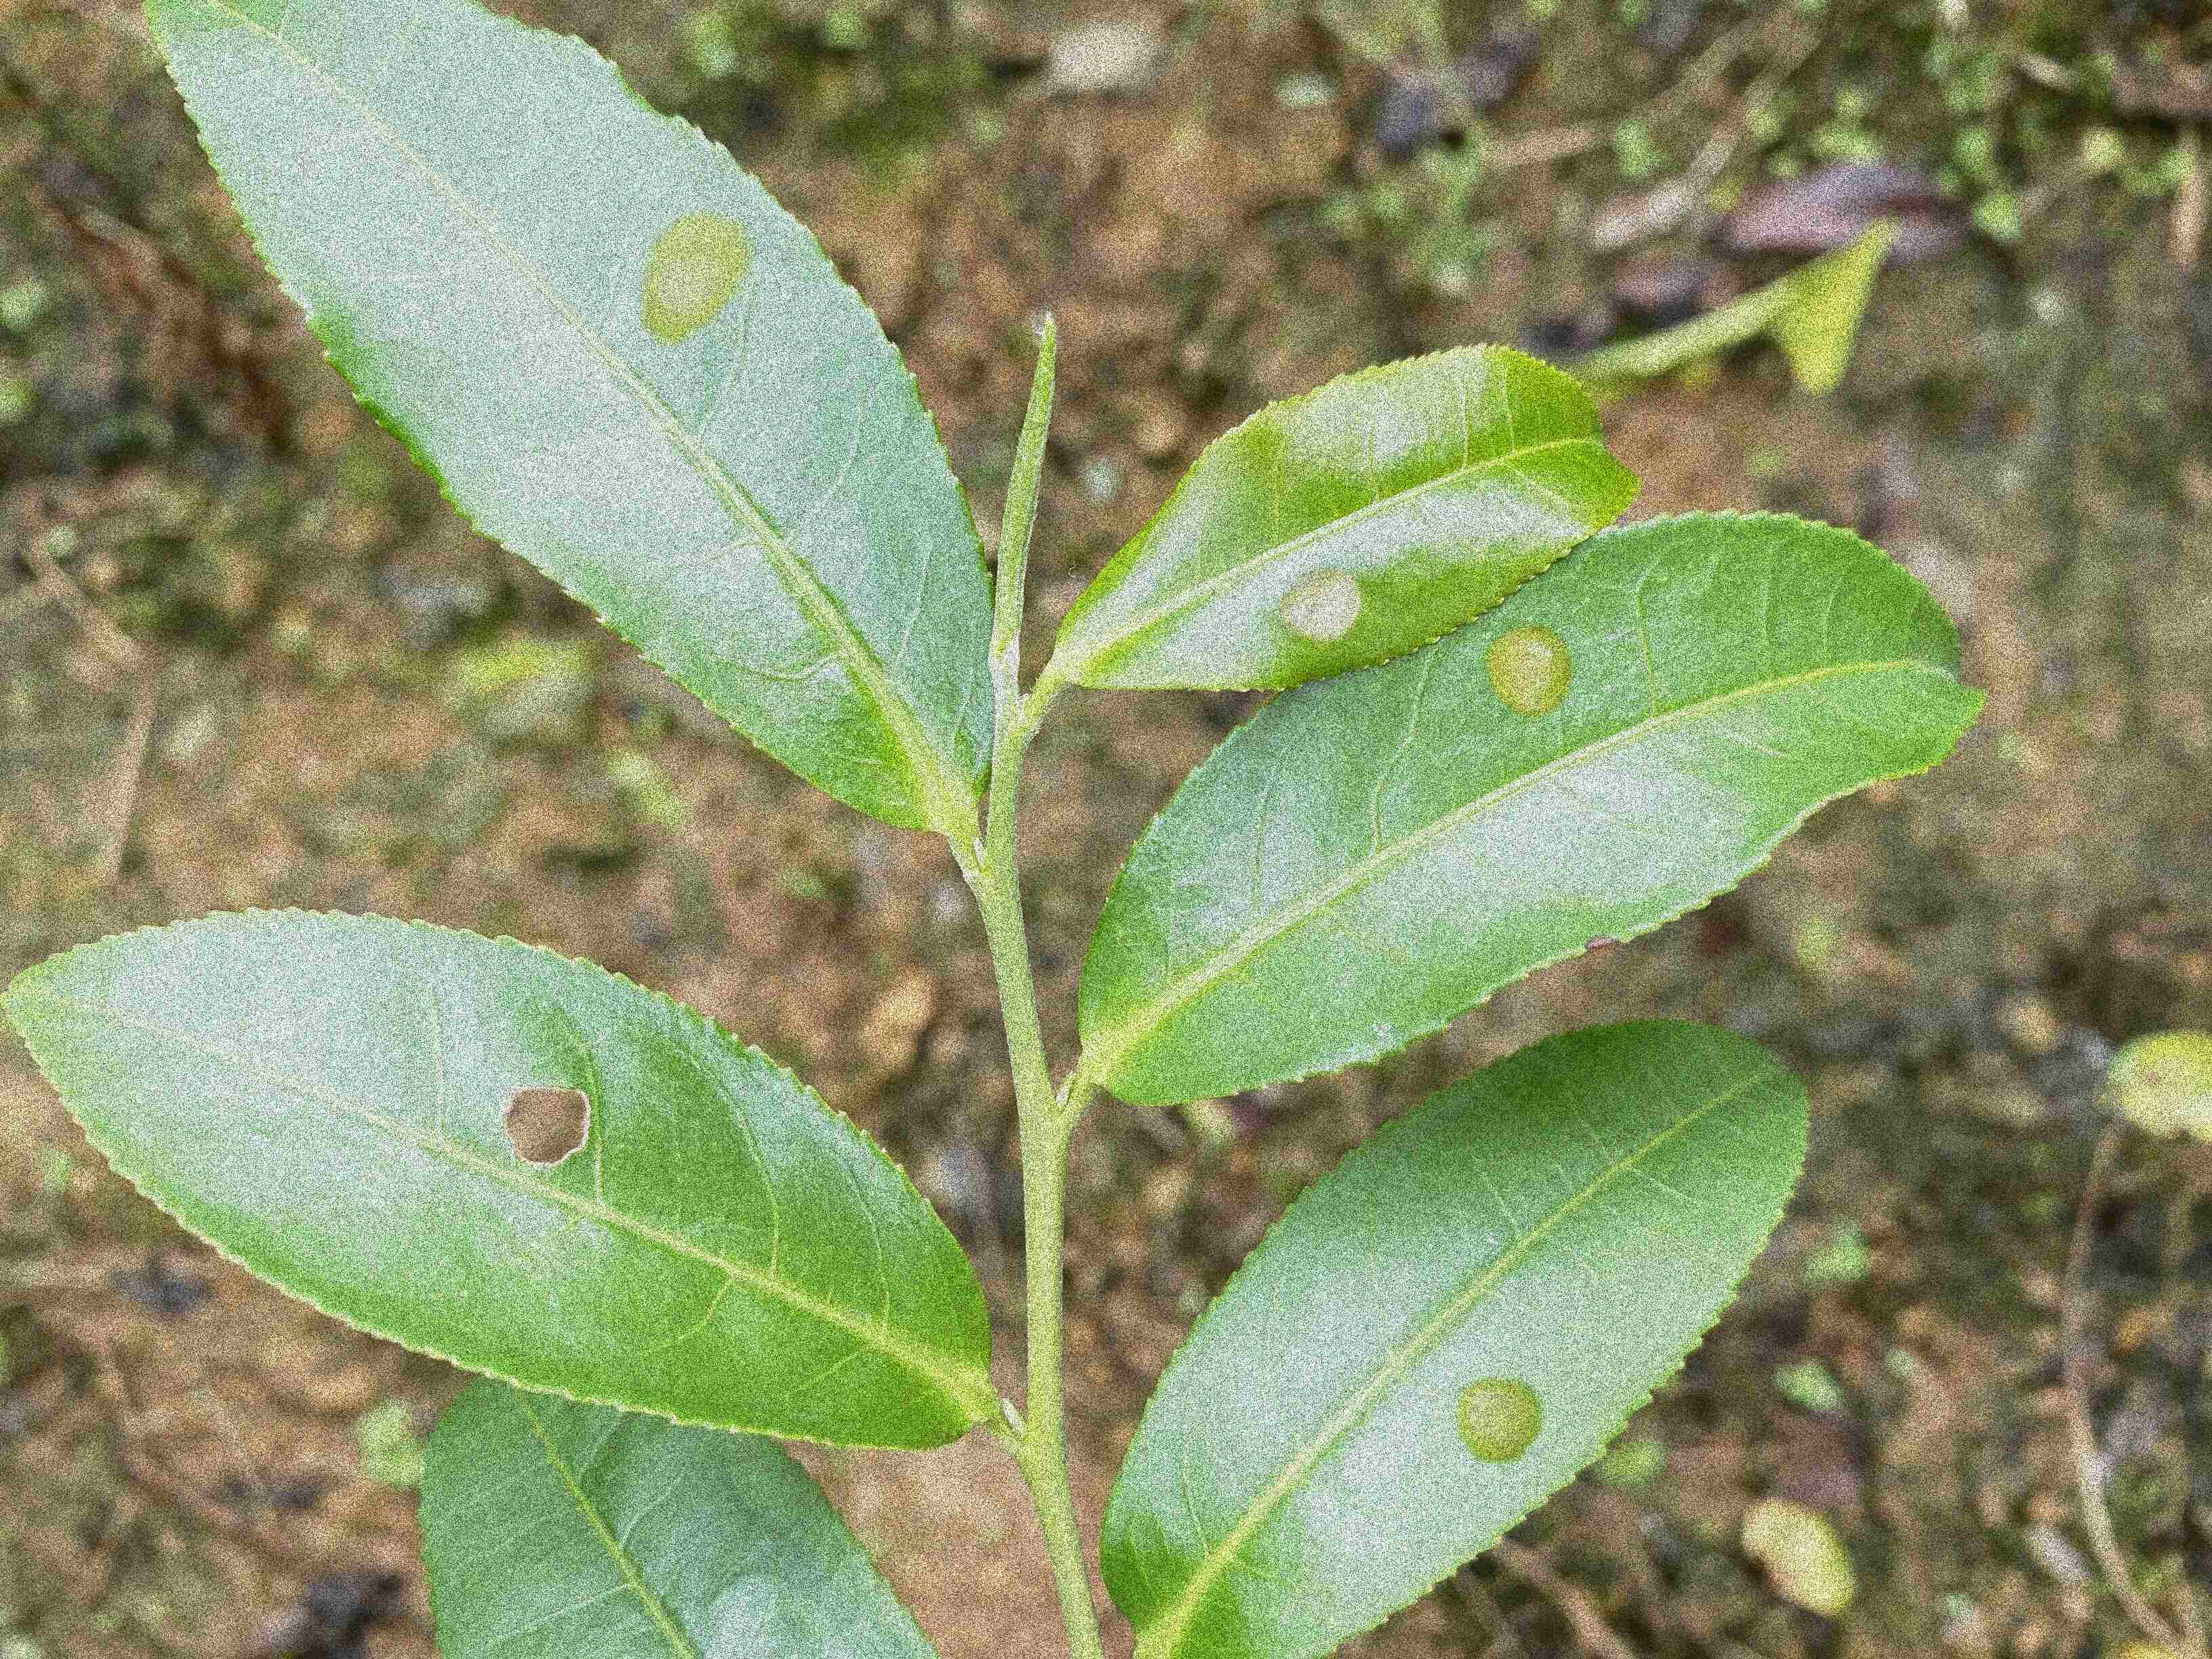chabing_low: (141, 3, 995, 836), (1073, 505, 1989, 1108), (1101, 1016, 1810, 1657), (1052, 343, 1646, 690)
chihuo_low: (2, 904, 1000, 1450)
healthy: (418, 1380, 942, 1657)
